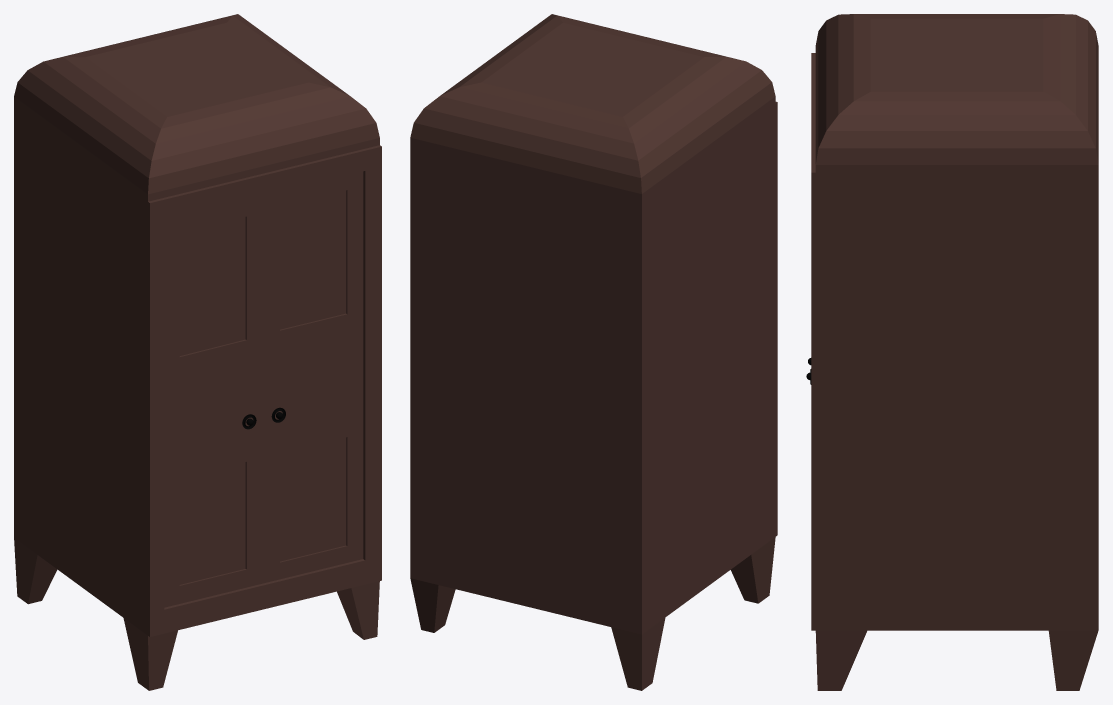
File: armariopequeno.fbx
3 renders of one model, left to right at view 1: azimuth 30°, elevation 25°; view 2: azimuth 150°, elevation 25°; view 3: azimuth 270°, elevation 25°, orthographic. The views are drawn at different scales.
Parts seen in each view (by area): view 1: Cube.009; view 2: Cube.009; view 3: Cube.009.
Boxes of the visible parts, x1,y1,x2,y2 form: Cube.009: (14, 14, 381, 690); Cube.009: (410, 14, 777, 690); Cube.009: (806, 14, 1098, 690).
Bounding box in the file's own units: 81.12 × 183 × 83.78.
